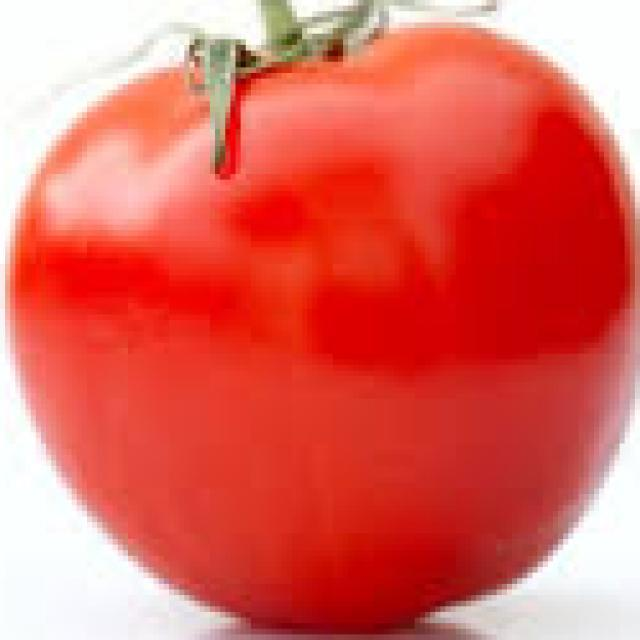Healthy: (24, 19, 640, 635)
